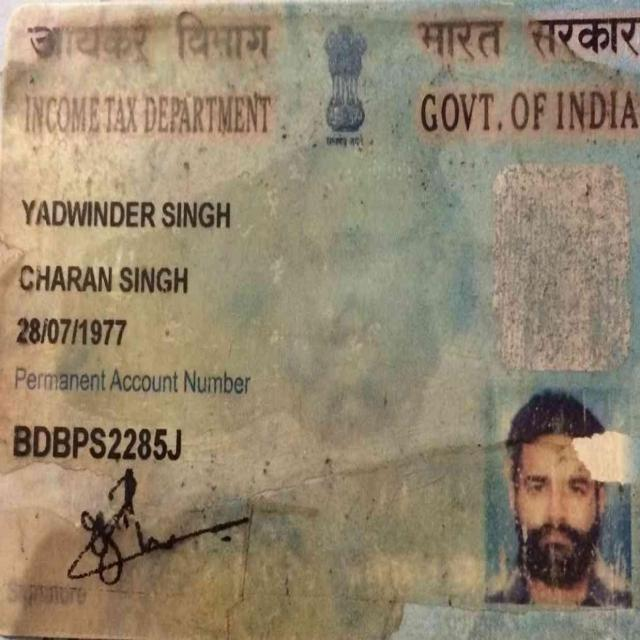pan_card: (7, 5, 637, 616)
